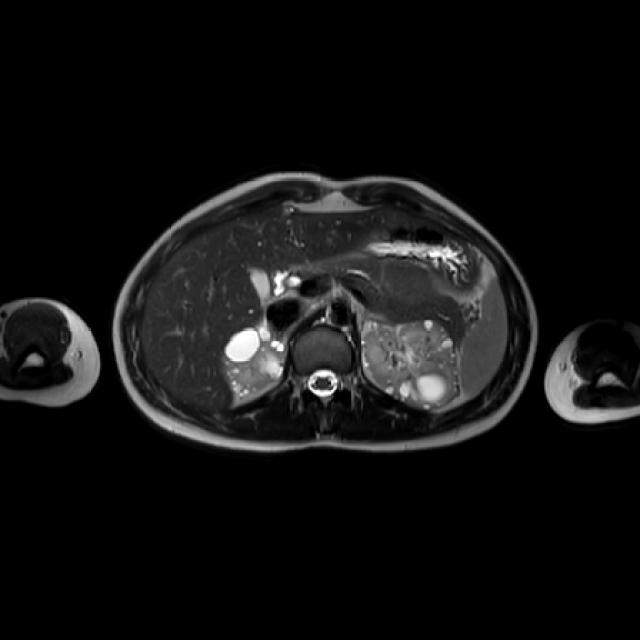sag: (227, 325, 290, 400)
sol: (363, 318, 461, 411)
